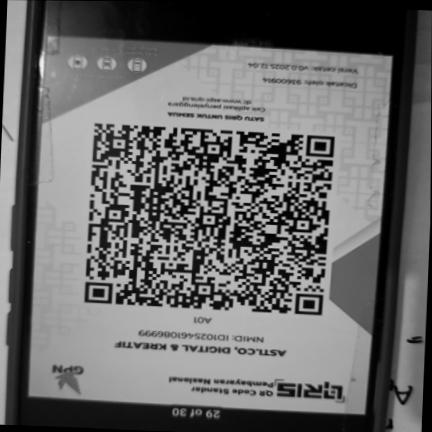Cara Pakai QRIS: (55, 40, 170, 85)
Cek Aplikasi Penyelenggara: (162, 92, 271, 115)
Dicetak Oleh: (253, 74, 362, 92)
Logo GPN: (44, 360, 96, 397)
Logo dan deskripsi QRIS: (162, 369, 352, 406)
Nama Merchant: (108, 338, 293, 361)
National Merchant ID: (125, 327, 270, 346)
QR Code: (79, 118, 342, 318)
Slogan: (161, 109, 270, 126)
Terminal ID: (187, 314, 217, 327)
Versi Cetak: (239, 59, 362, 78)
